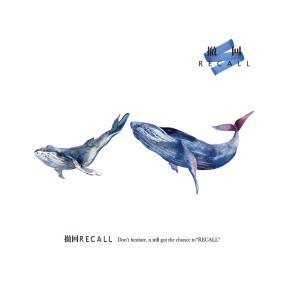fish: (134, 111, 253, 194), (35, 113, 129, 181)
